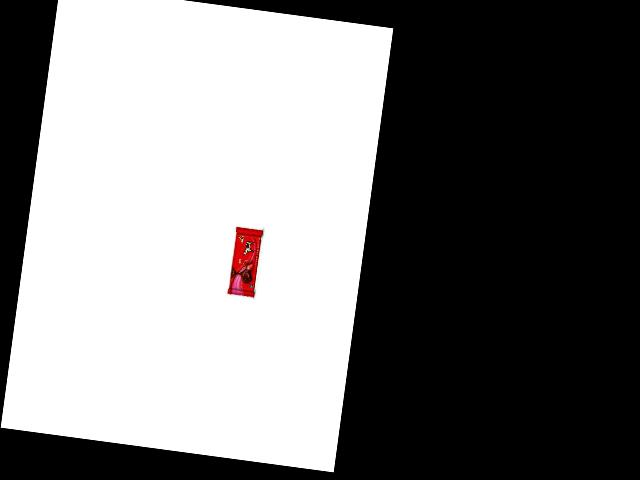chocolate: (227, 221, 268, 298)
